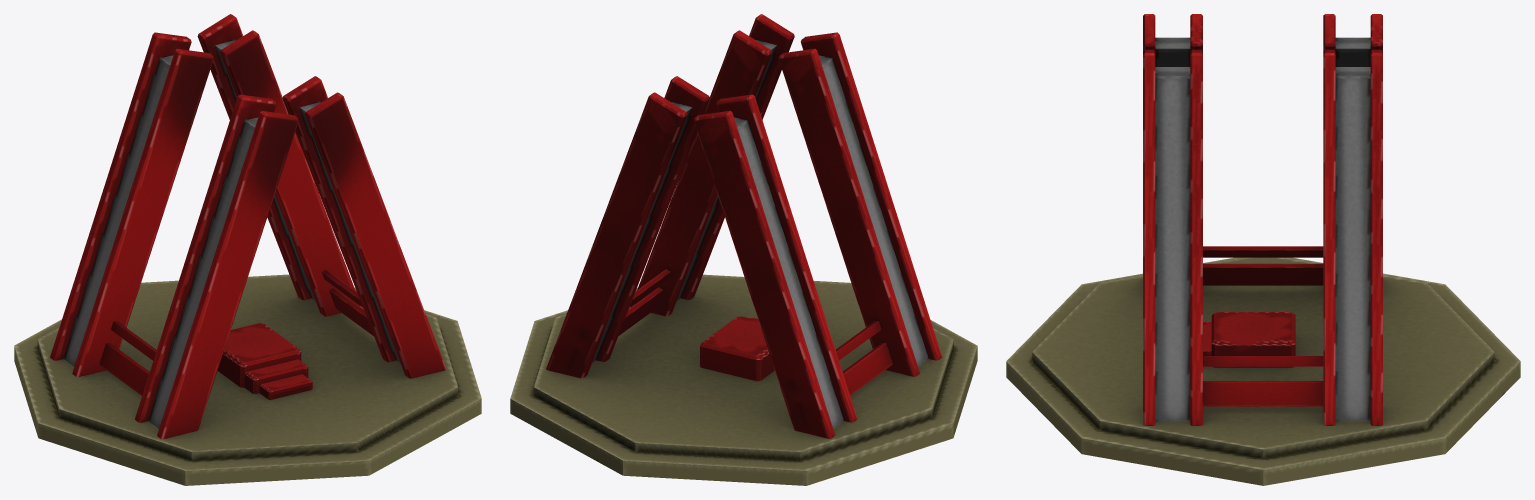
Rendered from dodai.fbx.
3 views of the same model, side by side, from view 1: azimuth 30°, elevation 25°; view 2: azimuth 150°, elevation 25°; view 3: azimuth 270°, elevation 25° (orthographic). The views are drawn at different scales.
Visible parts, largest first — view 1: pCube35; view 2: pCube35; view 3: pCube35.
Part boxes in pixels (<box>): pCube35: <box>14,14,481,485</box>; pCube35: <box>510,14,977,485</box>; pCube35: <box>1006,14,1520,485</box>.
Size of the model in its own units: 349 by 257 by 349.
2 materials, 2 textured.
